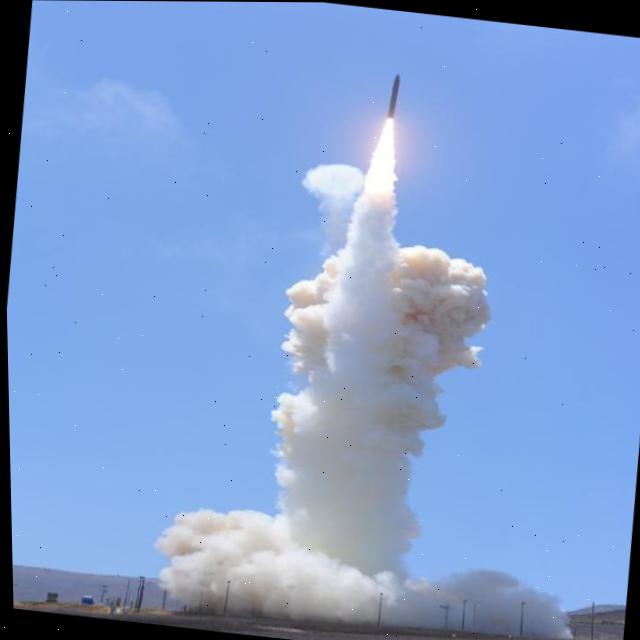missile: (382, 71, 407, 119)
